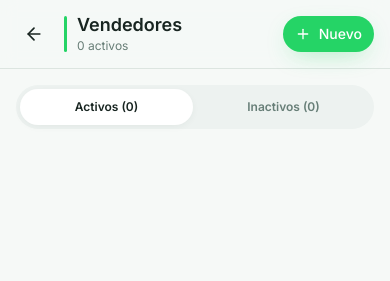
Test case: Vendedores lead schedule › en inactivos no muestra interruptor ni horario
Step 1. Click the tab "Inactivos (0)" → [284, 107], box [197,89,370,125]
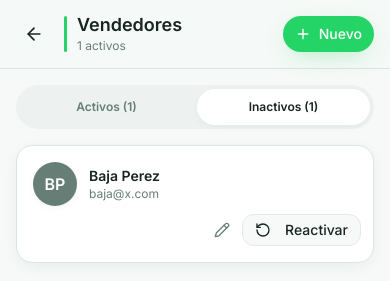
Expected: the text "Baja Perez" is shown, [89,167,160,184]
